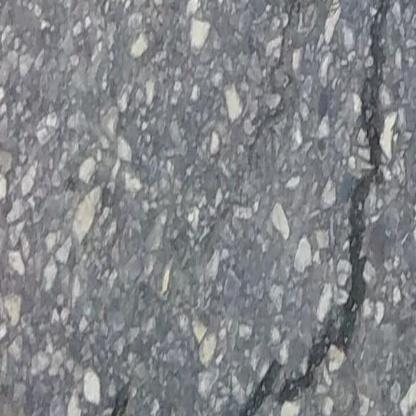Cracks: (232, 0, 388, 416)
